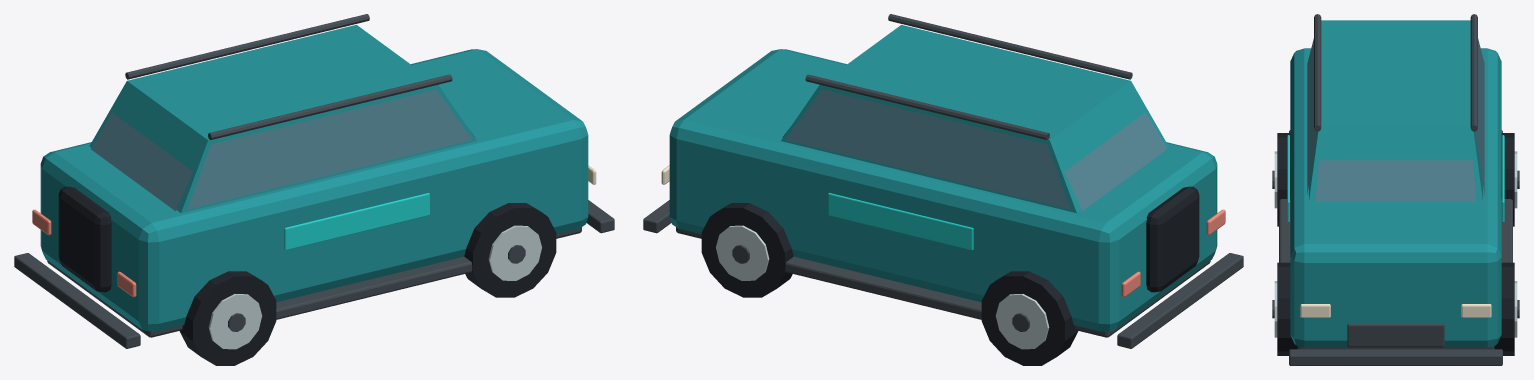
File: SUV.fbx
3 views of the same model, side by side, from view 1: azimuth 30°, elevation 25°; view 2: azimuth 150°, elevation 25°; view 3: azimuth 270°, elevation 25° (orthographic). The views are drawn at different scales.
Visible parts, largest first — view 1: SUV; view 2: SUV; view 3: SUV.
Boxes of the visible parts, left/top/right/bottom form: SUV: left=14, top=14, right=614, bottom=365; SUV: left=643, top=14, right=1243, bottom=365; SUV: left=1272, top=14, right=1519, bottom=365.
Size of the model in its own units: 526 by 224 by 243.
